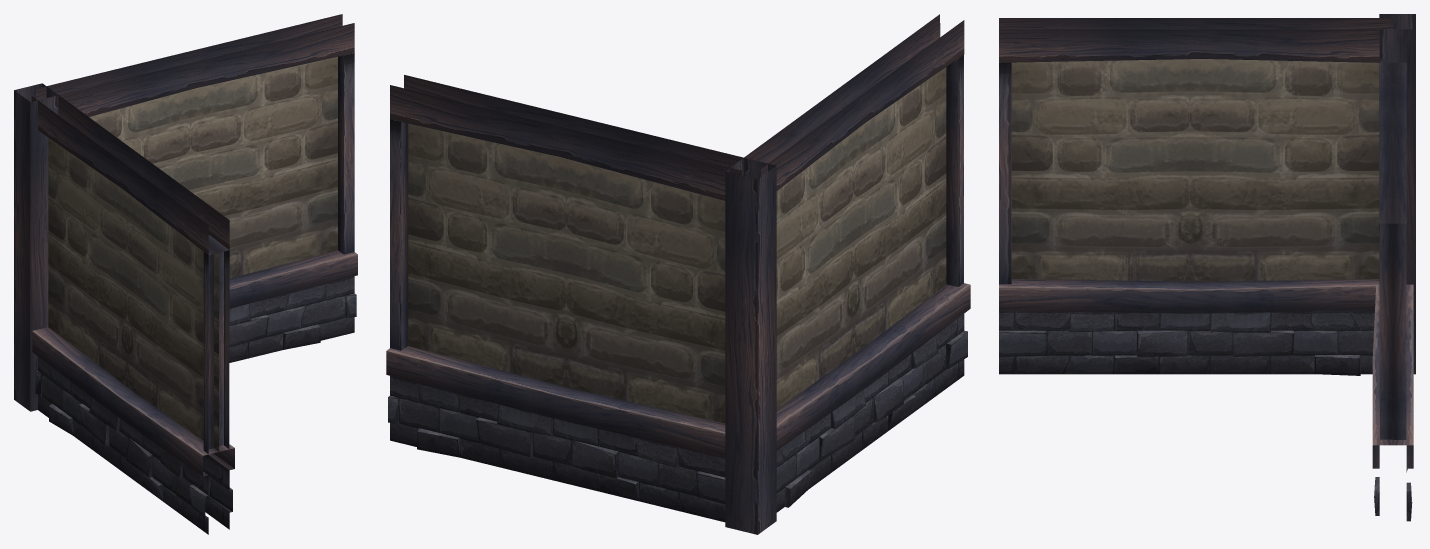
File: WallCorner_2sided_detailed_Bricks.fbx
3 views of the same model, side by side, from view 1: azimuth 30°, elevation 25°; view 2: azimuth 150°, elevation 25°; view 3: azimuth 270°, elevation 25° (orthographic). The views are drawn at different scales.
Visible parts, largest first — view 1: WallCorner_2sided_detailed_Bricks; view 2: WallCorner_2sided_detailed_Bricks; view 3: WallCorner_2sided_detailed_Bricks.
Part boxes in pixels (x1,y1,x2,y2): WallCorner_2sided_detailed_Bricks: (14, 14, 357, 534); WallCorner_2sided_detailed_Bricks: (386, 14, 970, 534); WallCorner_2sided_detailed_Bricks: (999, 14, 1415, 521).
Size of the model in its own units: 0.6867 by 0.6266 by 0.6863.
